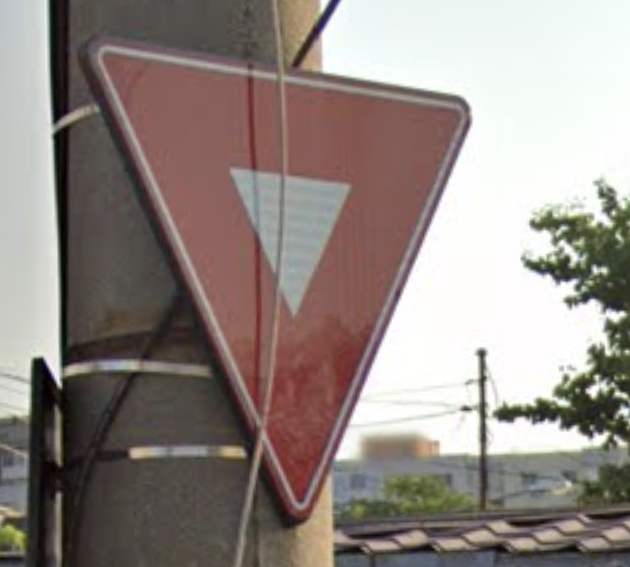cedeaza: (67, 18, 488, 532)
